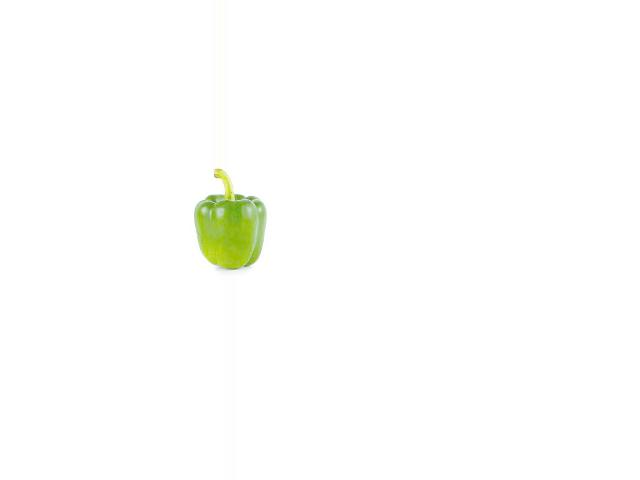bell_pepper: (192, 171, 278, 269)
